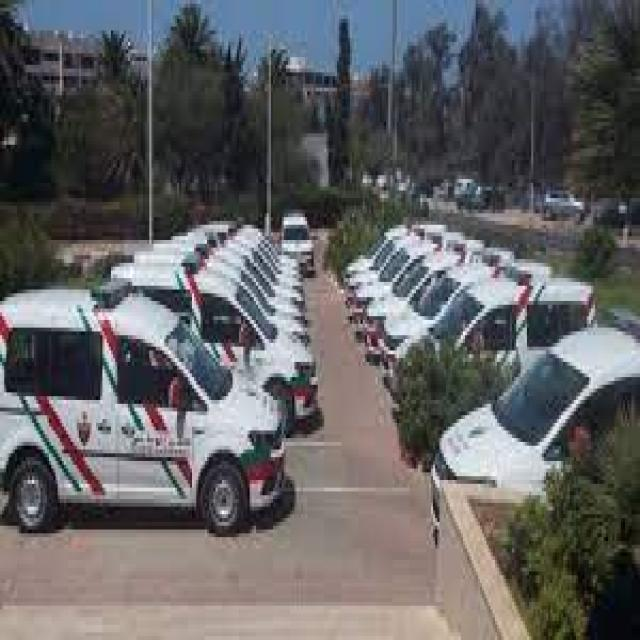police: (0, 286, 283, 534)
